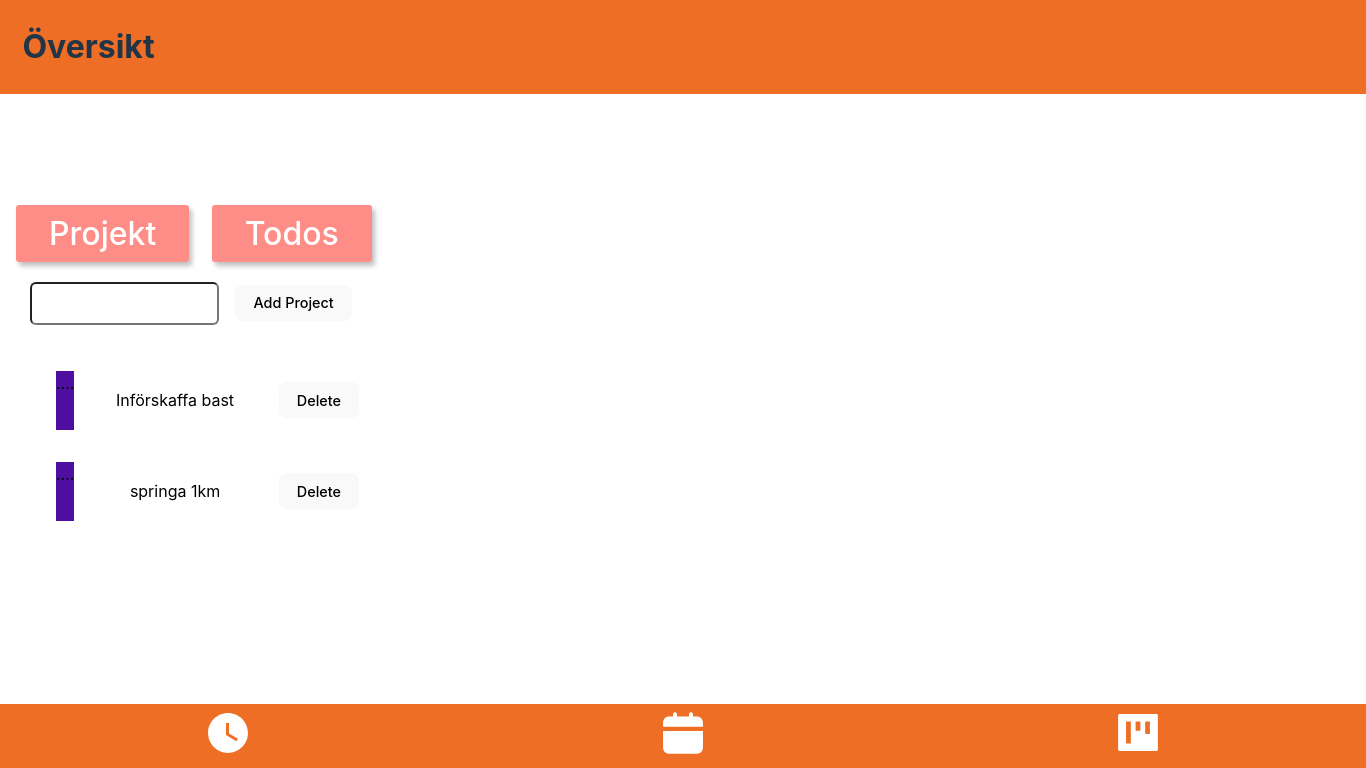
Projects › Adding a project should add it from projects overview
Type "fisching" into the field at (124,304), box [30,282,219,325]
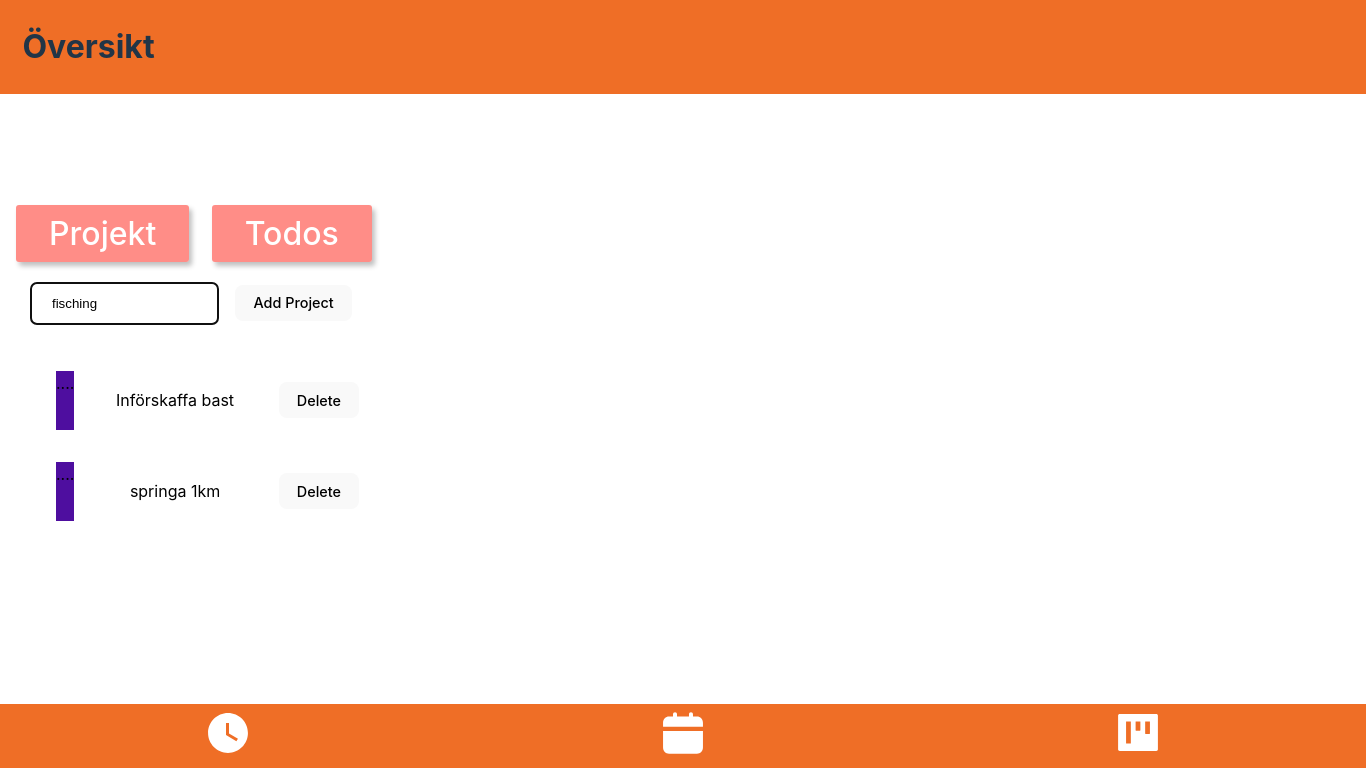
Click the button "Add Project" at (294,303), box [235,285,352,321]
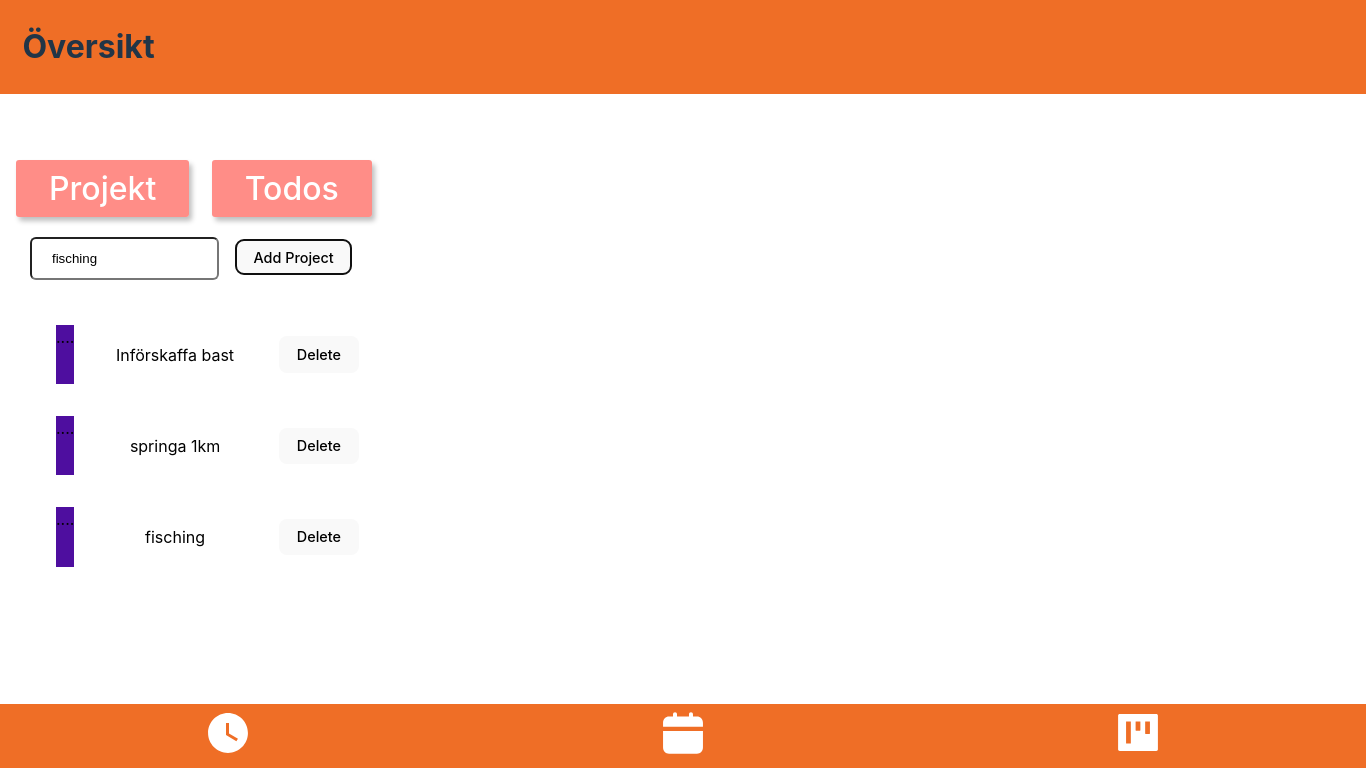
Now the list item ".... fisching Delete" is shown, box [56,507,362,566]
